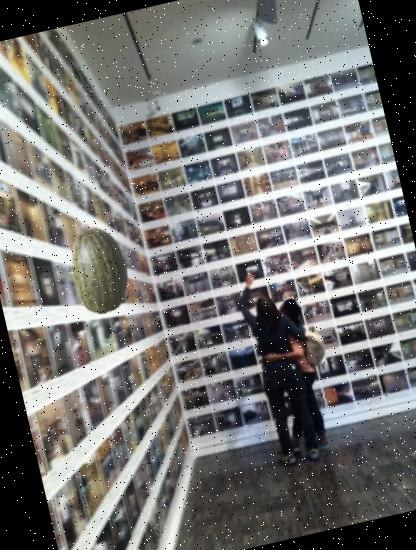Melon: (47, 217, 153, 323)
